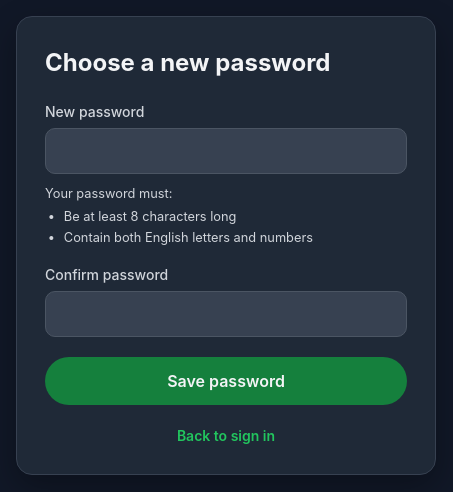
ResetPasswordPage › confirms the change
Type "BrandNew!567" into the password field labelled "New password" at (226, 151), box [45,128,407,174]
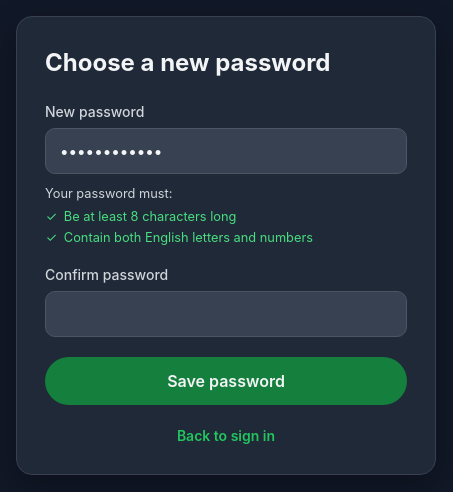
Type "BrandNew!567" into the password field labelled "Confirm password" at (226, 314), box [45,291,407,337]
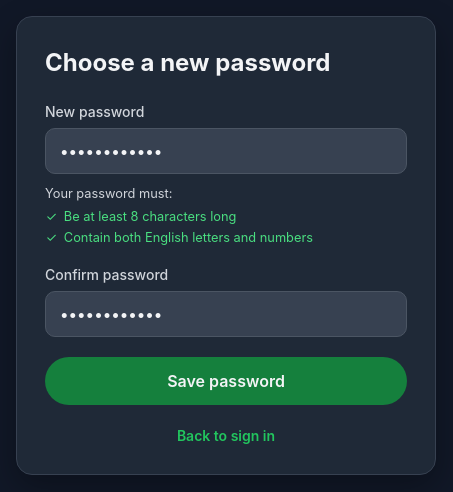
Click the button "Save password" at (226, 381), box [45,357,407,405]
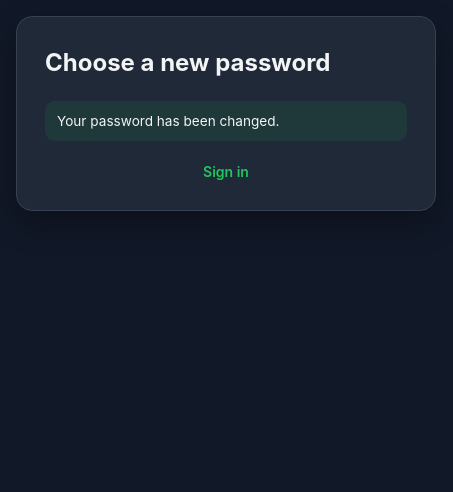
Check: the message reads "Your password has been changed.", box [57,113,280,129]
